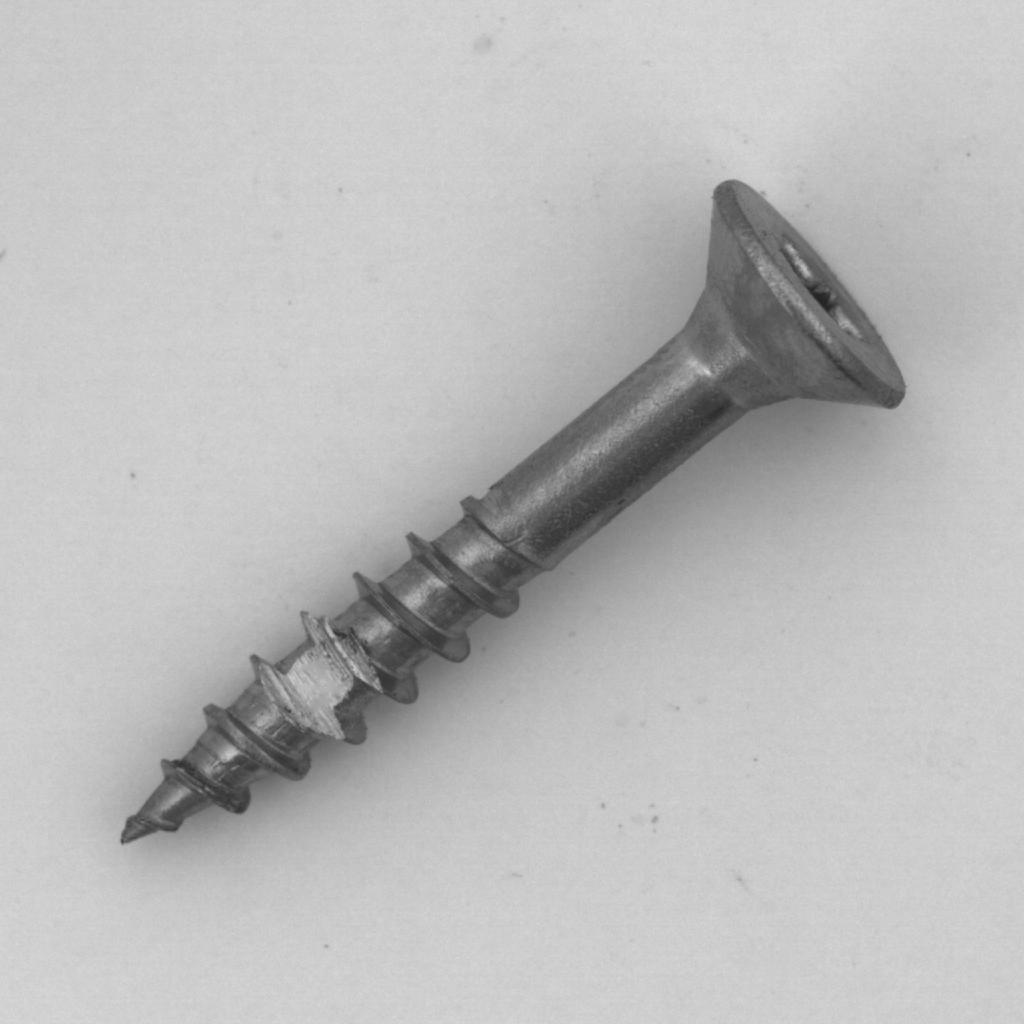scratch_neck: (354, 26, 717, 990)
